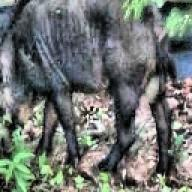boar: (0, 0, 178, 180)
